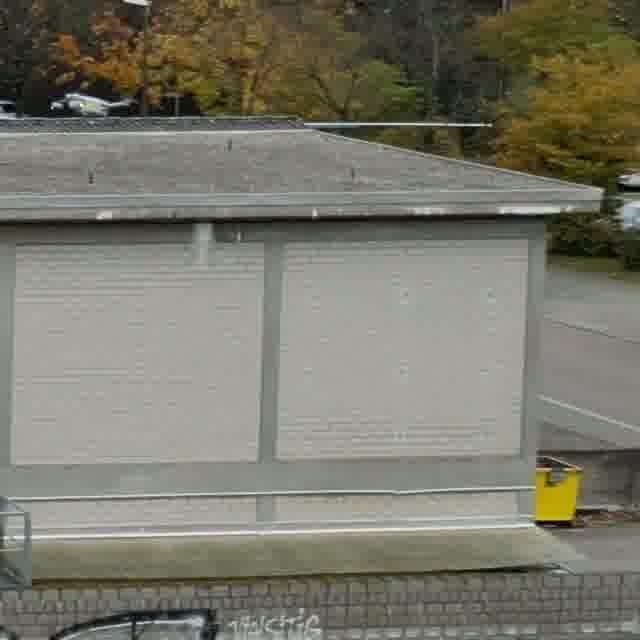Drohne: (50, 93, 135, 116)
